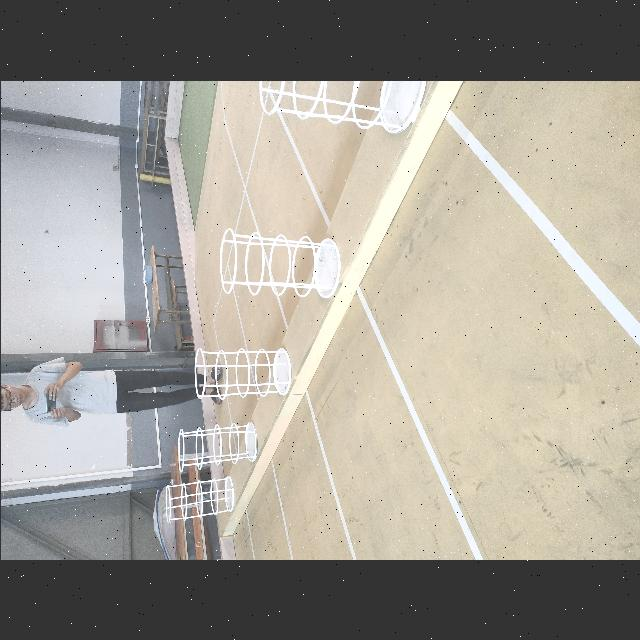S: (258, 80, 427, 133), (218, 227, 340, 299), (193, 346, 291, 400), (176, 419, 258, 474), (164, 474, 235, 525)
